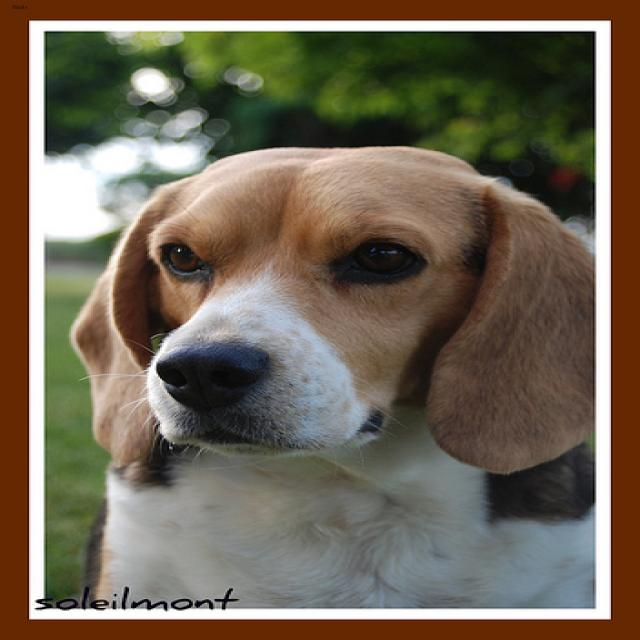dog-beagle: (53, 131, 618, 626)
